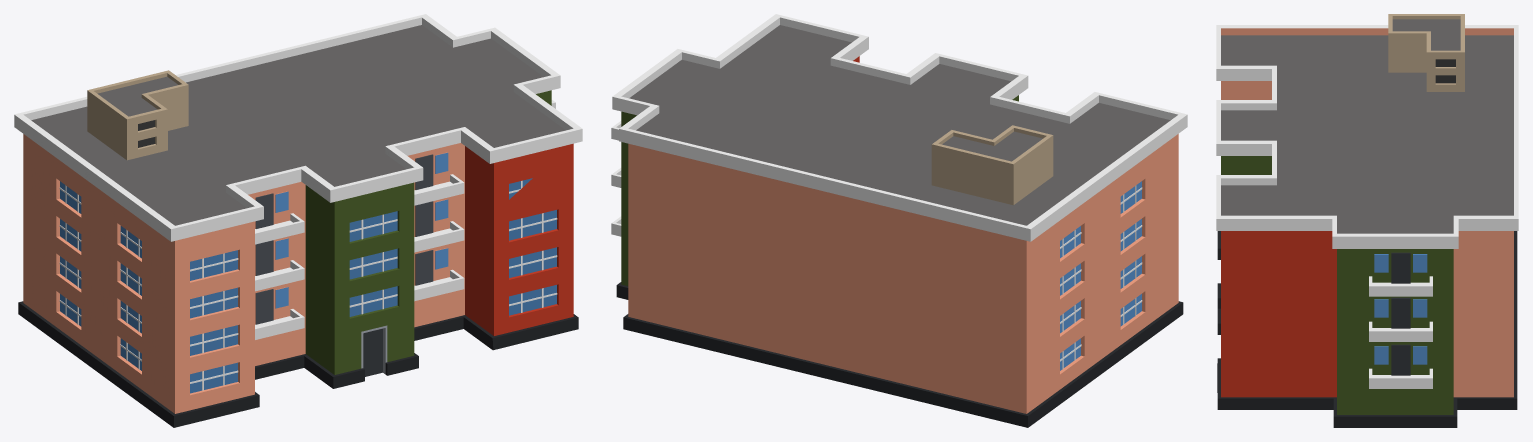
File: Apartment_1.fbx
3 renders of one model, left to right at view 1: azimuth 30°, elevation 25°; view 2: azimuth 150°, elevation 25°; view 3: azimuth 270°, elevation 25°, orthographic. The views are drawn at different scales.
Parts seen in each view (by area): view 1: Apartment_1; view 2: Apartment_1; view 3: Apartment_1.
Part boxes in pixels (x1,y1,x2,y2): Apartment_1: (14, 14, 582, 427); Apartment_1: (611, 14, 1187, 427); Apartment_1: (1216, 14, 1518, 427).
Size of the model in its own units: 2392 by 1151 by 1401.
